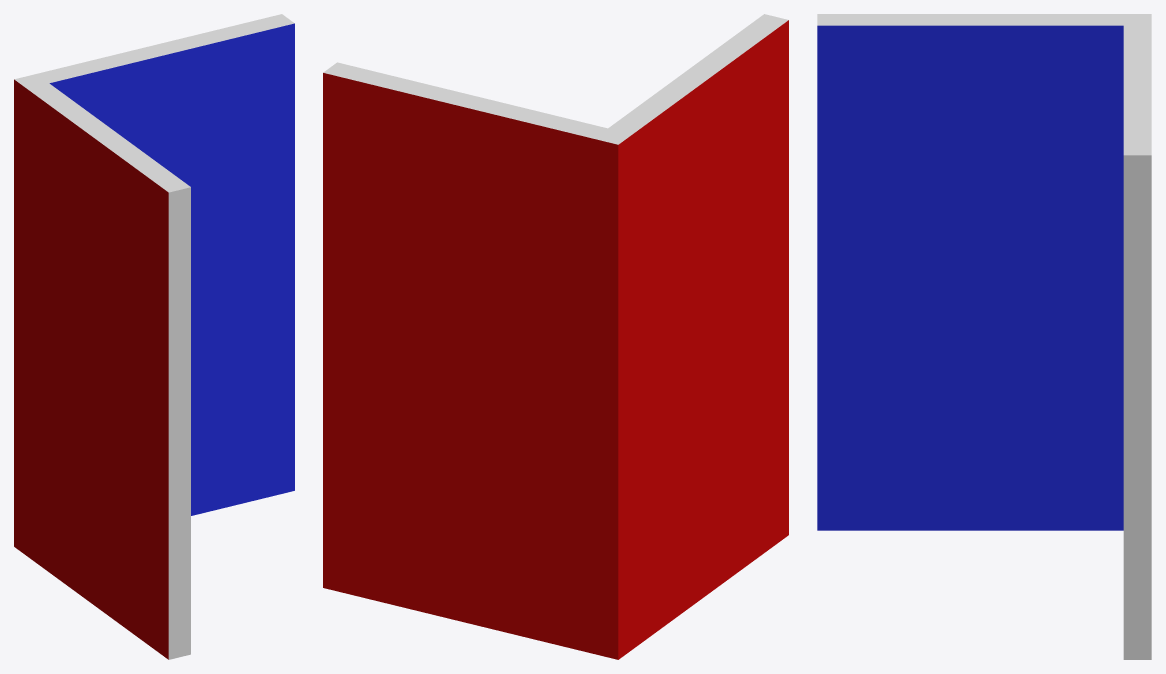
Rendered from Mesh_wall_corner_room.fbx.
3 renders of one model, left to right at view 1: azimuth 30°, elevation 25°; view 2: azimuth 150°, elevation 25°; view 3: azimuth 270°, elevation 25°, orthographic. The views are drawn at different scales.
Parts seen in each view (by area): view 1: mesh_wall_corner; view 2: mesh_wall_corner; view 3: mesh_wall_corner.
Boxes of the visible parts, bbox=[...] form: mesh_wall_corner: bbox=[14, 14, 294, 659]; mesh_wall_corner: bbox=[323, 14, 788, 659]; mesh_wall_corner: bbox=[817, 14, 1151, 659].
Size of the model in its own units: 1.95 by 3.25 by 1.95.
